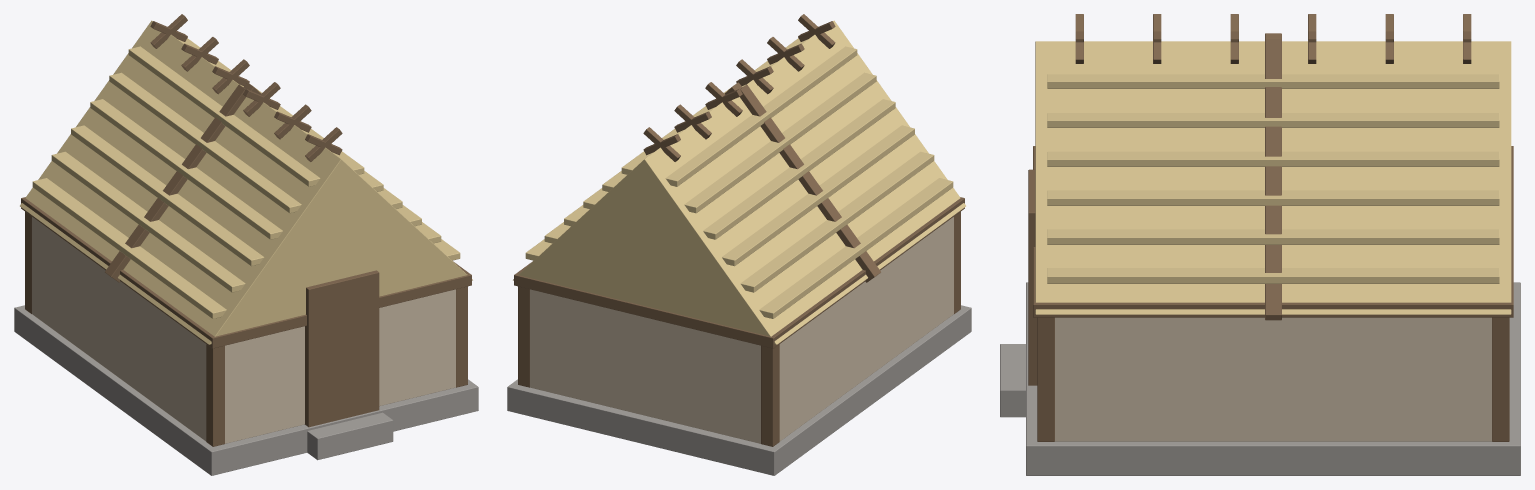
Rendered from House_Neo_a.glb.
3 views of the same model, side by side, from view 1: azimuth 30°, elevation 25°; view 2: azimuth 150°, elevation 25°; view 3: azimuth 270°, elevation 25° (orthographic). The views are drawn at different scales.
Visible parts, largest first — view 1: House_Neo_a; view 2: House_Neo_a; view 3: House_Neo_a.
Boxes of the visible parts, x1=… form: House_Neo_a: x1=14, y1=14, x2=478, y2=475; House_Neo_a: x1=507, y1=14, x2=971, y2=475; House_Neo_a: x1=1000, y1=14, x2=1520, y2=475.
Size of what is drawn, in the model's own units: 3.83 by 3.92 by 4.97.
